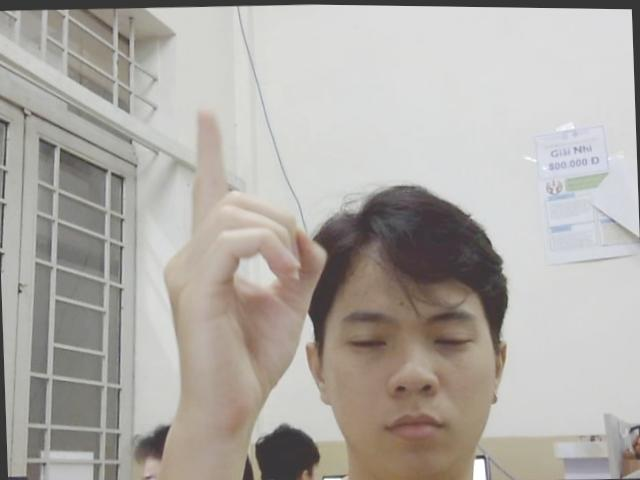D: (153, 98, 332, 425)
